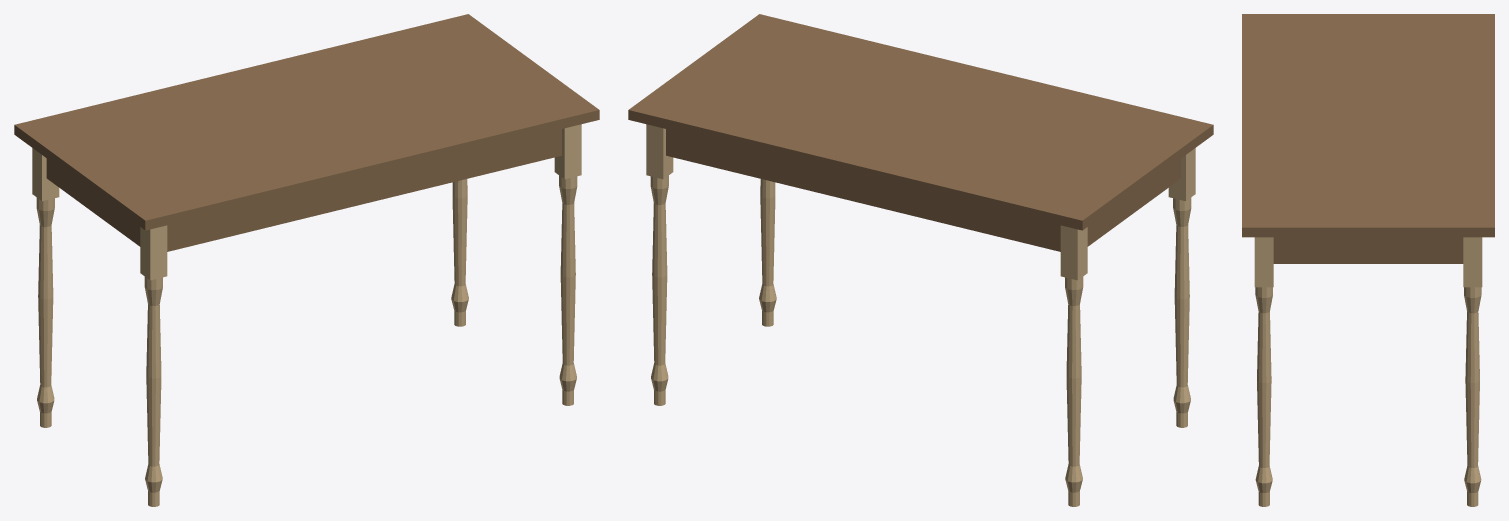
Rendered from BIB-DSK-std.glb.
3 views of the same model, side by side, from view 1: azimuth 30°, elevation 25°; view 2: azimuth 150°, elevation 25°; view 3: azimuth 270°, elevation 25° (orthographic). The views are drawn at different scales.
Visible parts, largest first — view 1: top:pbr, apron-f:pbr, leg-fl:pbr, leg-fr:pbr, leg-bl:pbr, leg-br:pbr, apron-l:pbr; view 2: top:pbr, apron-b:pbr, leg-bl:pbr, leg-br:pbr, leg-fl:pbr, leg-fr:pbr, apron-l:pbr; view 3: top:pbr, apron-r:pbr, leg-fr:pbr, leg-br:pbr.
Part boxes in pixels (x1=…): top:pbr: x1=14, y1=14, x2=599, y2=230; apron-f:pbr: x1=167, y1=129, x2=561, y2=251; leg-fl:pbr: x1=140, y1=225, x2=167, y2=506; leg-fr:pbr: x1=554, y1=124, x2=581, y2=405; leg-bl:pbr: x1=32, y1=148, x2=59, y2=427; leg-br:pbr: x1=451, y1=179, x2=468, y2=326; apron-l:pbr: x1=46, y1=158, x2=140, y2=246; top:pbr: x1=628, y1=14, x2=1213, y2=230; apron-b:pbr: x1=666, y1=129, x2=1060, y2=251; leg-bl:pbr: x1=1060, y1=225, x2=1087, y2=506; leg-br:pbr: x1=646, y1=124, x2=673, y2=405; leg-fl:pbr: x1=1168, y1=148, x2=1195, y2=427; leg-fr:pbr: x1=759, y1=179, x2=776, y2=326; apron-l:pbr: x1=1087, y1=158, x2=1181, y2=246; top:pbr: x1=1242, y1=14, x2=1494, y2=237; apron-r:pbr: x1=1273, y1=237, x2=1463, y2=263; leg-fr:pbr: x1=1254, y1=237, x2=1273, y2=506; leg-br:pbr: x1=1463, y1=237, x2=1482, y2=506.
Size of the model in its own units: 1.2 by 0.75 by 0.6.
